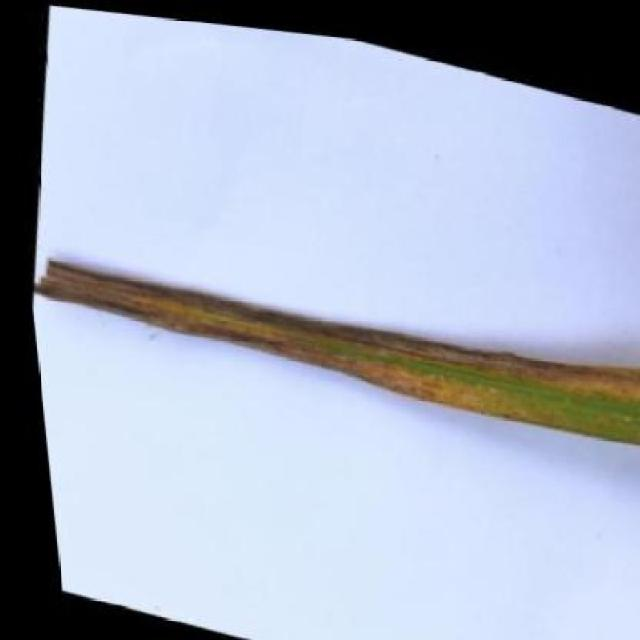Rice False Smut: (15, 198, 640, 460)
